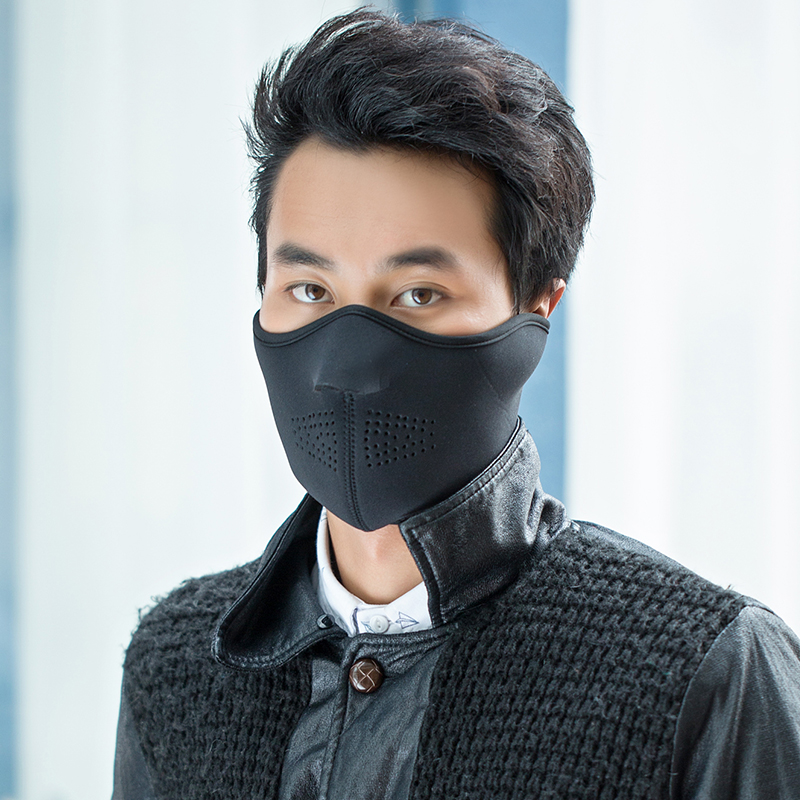face_mask: (261, 135, 519, 512)
